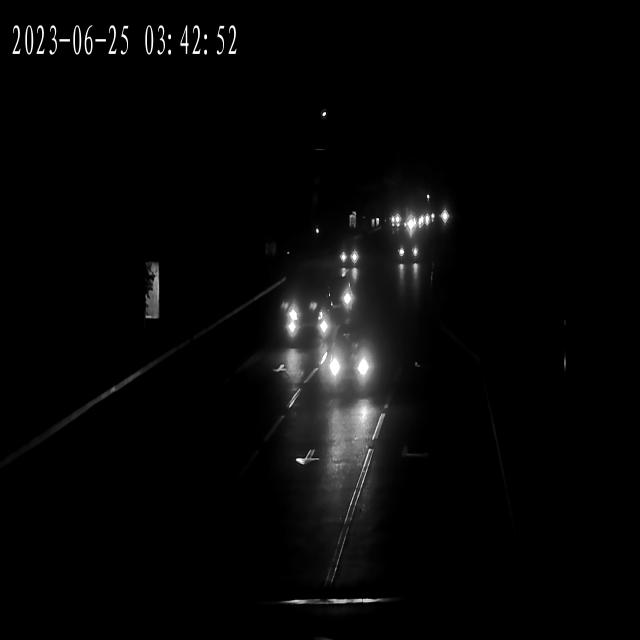Car: (323, 333, 385, 391), (277, 284, 330, 338), (335, 242, 361, 268), (398, 238, 420, 265), (416, 203, 431, 232), (369, 211, 381, 231), (390, 206, 402, 226), (403, 214, 418, 224)
